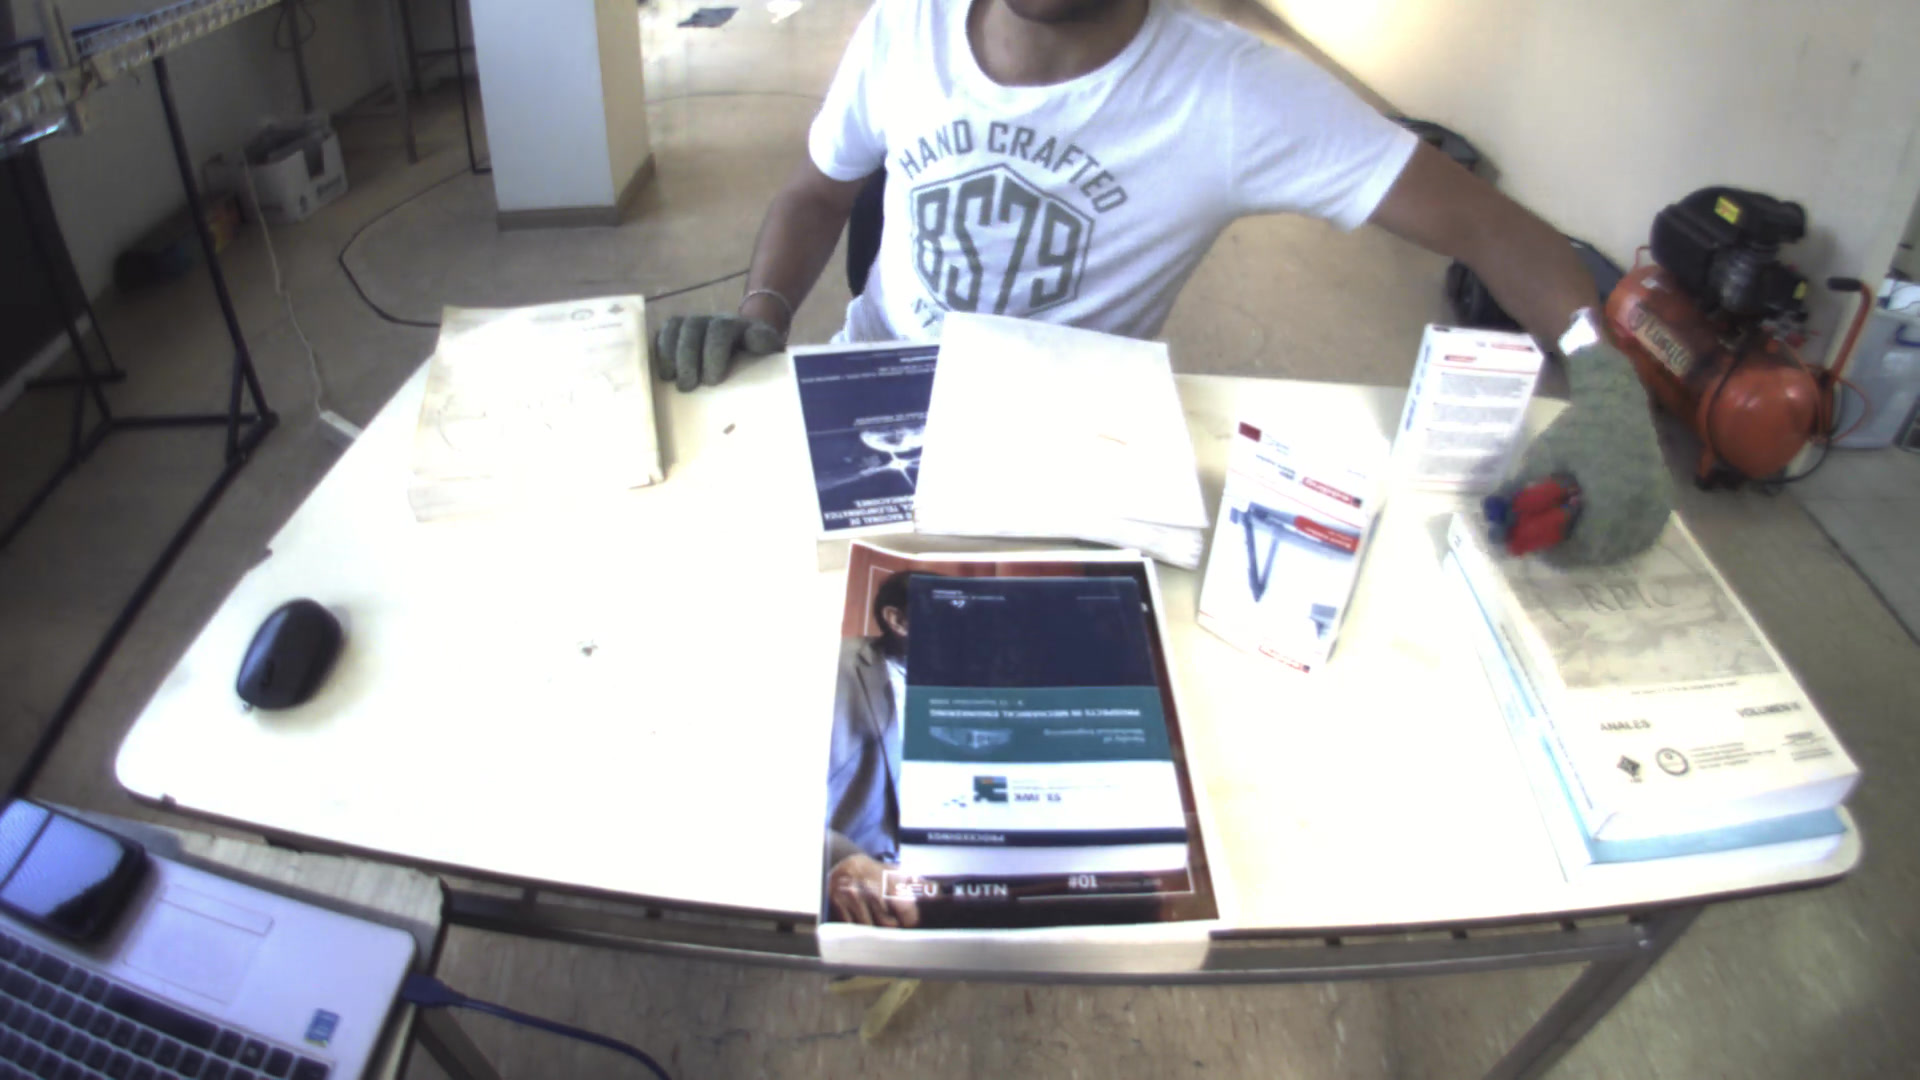hand: (1527, 345, 1684, 567), (651, 306, 783, 389)
